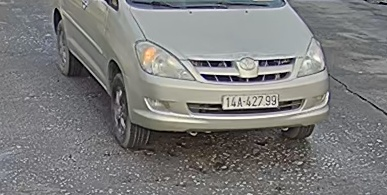vehicle plate: (218, 95, 280, 111)
